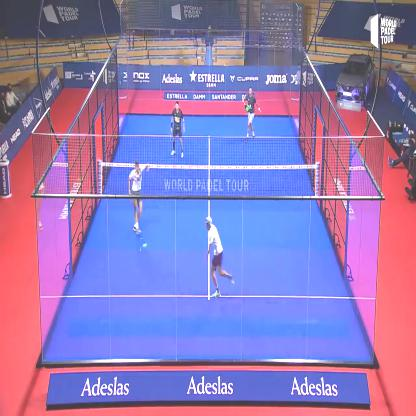ball: (140, 238, 148, 252)
